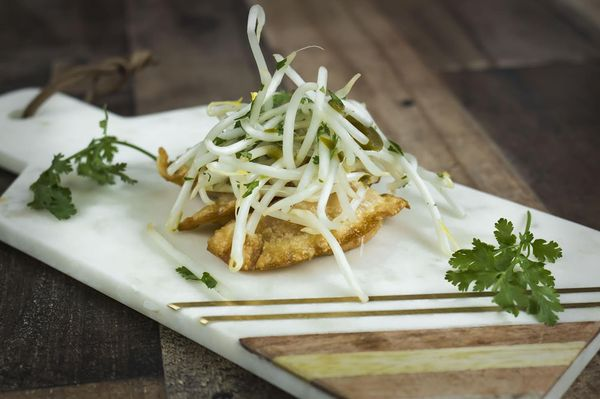soup: (154, 62, 414, 272)
